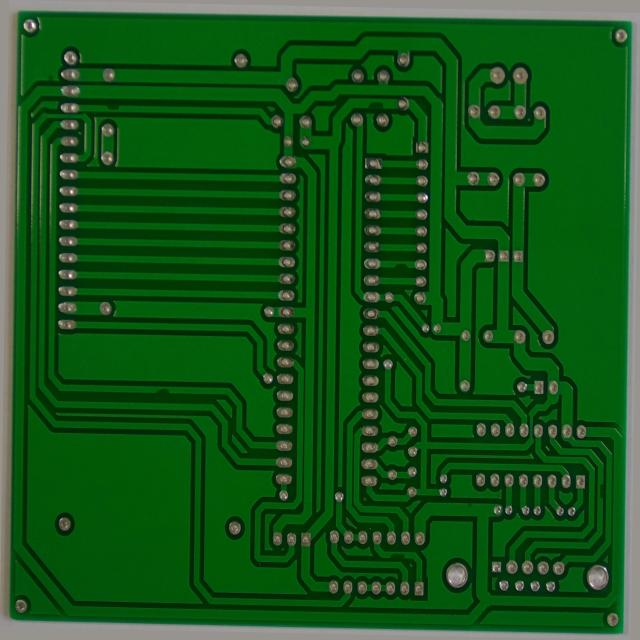mouse_bite: (359, 88, 386, 107), (148, 386, 173, 403), (389, 254, 412, 269), (392, 552, 412, 565), (97, 100, 117, 113), (602, 478, 614, 498)
